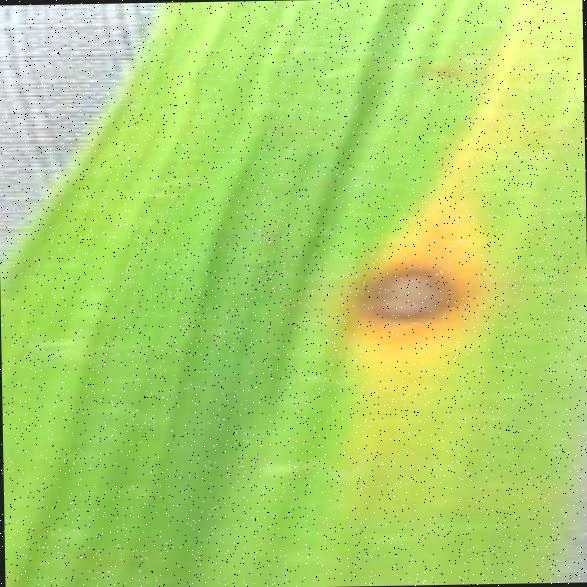Brown_Spot: (318, 212, 498, 378), (408, 48, 472, 92)
